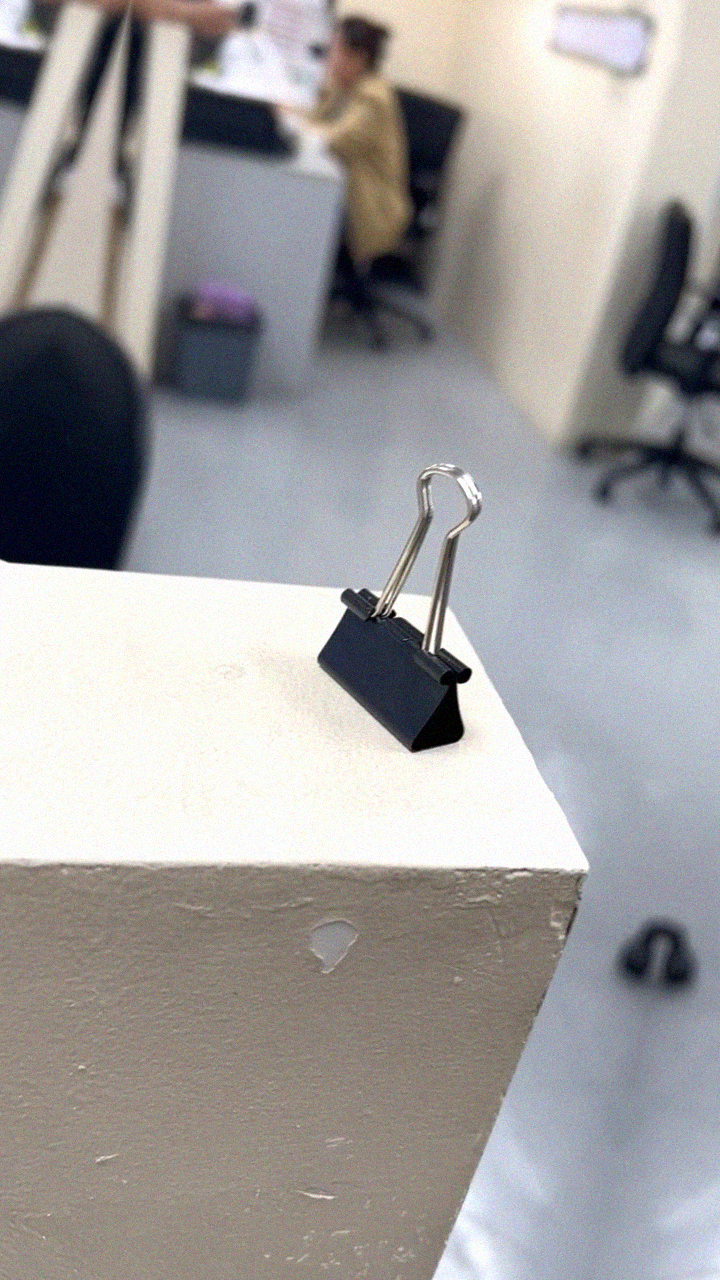kep_giay: (297, 441, 524, 767)
